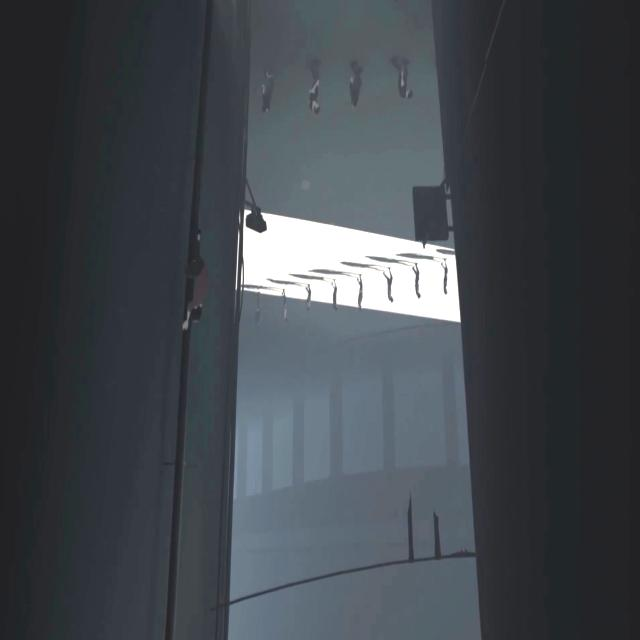boy: (183, 226, 209, 330)
zombie: (393, 58, 413, 100), (348, 61, 362, 109), (308, 60, 320, 114), (261, 70, 274, 113), (412, 262, 422, 300), (383, 267, 393, 304), (441, 258, 448, 297), (282, 287, 289, 322), (331, 278, 338, 310), (305, 284, 312, 312), (357, 273, 362, 310), (256, 292, 260, 328)
